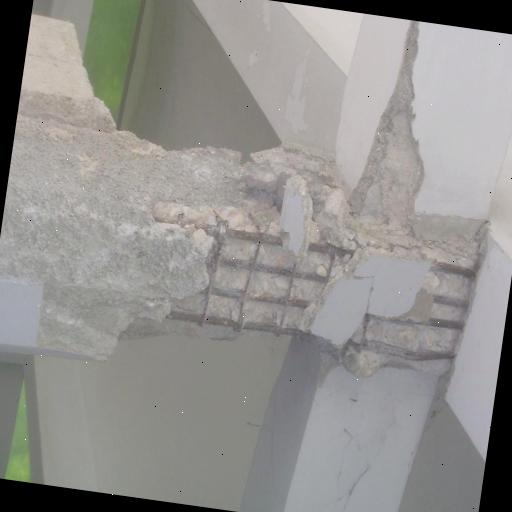spalling: (34, 170, 486, 384), (351, 29, 424, 214)
